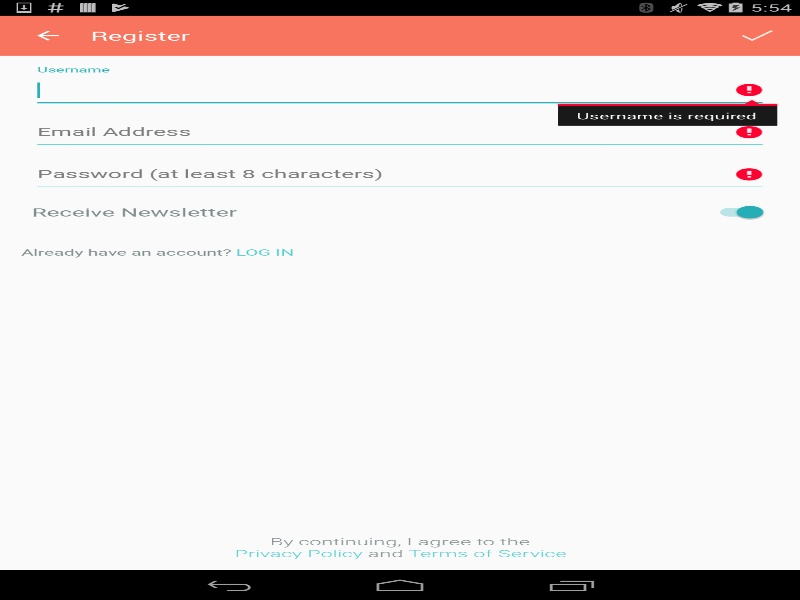Button: (0, 232, 800, 272), (10, 15, 85, 55)
Input: (32, 114, 768, 150), (32, 156, 768, 192), (32, 72, 768, 107)
